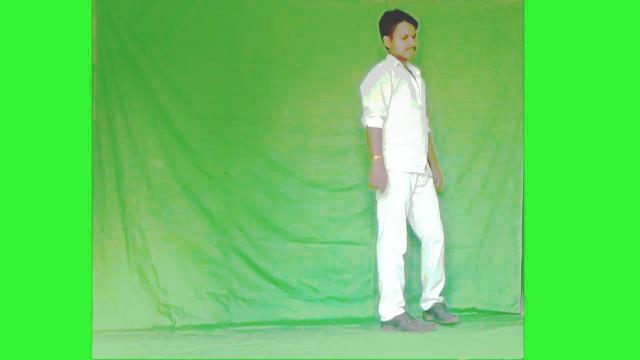berjalan: (358, 6, 462, 332)
